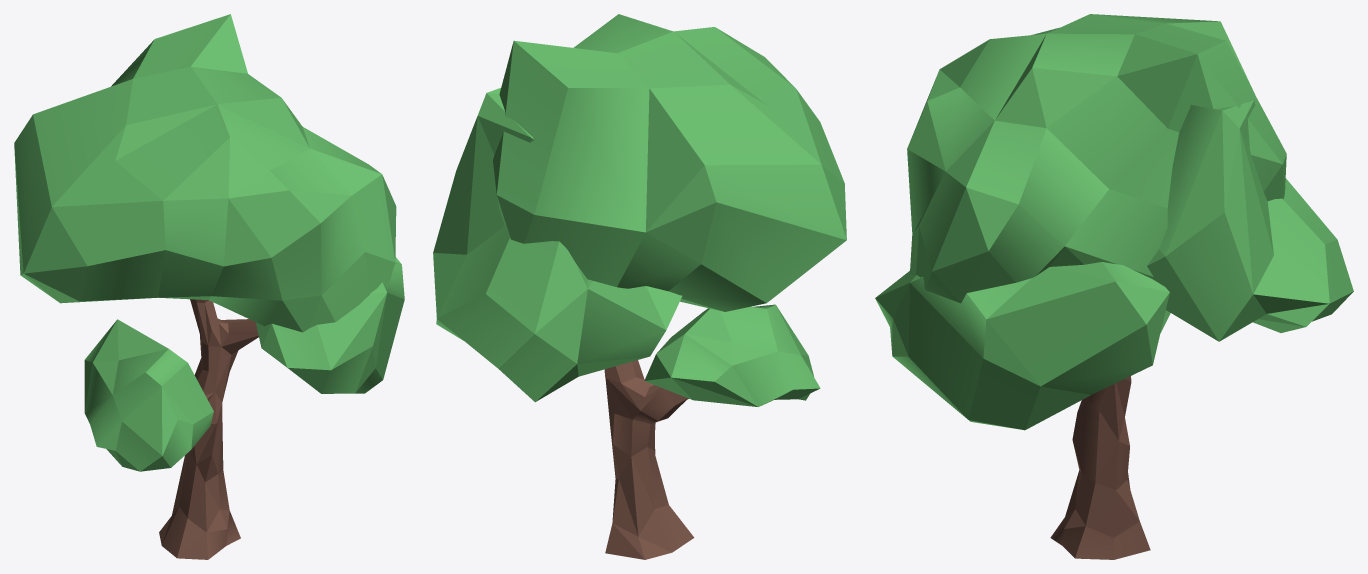
Rendered from tree_001.glb.
3 renders of one model, left to right at view 1: azimuth 30°, elevation 25°; view 2: azimuth 150°, elevation 25°; view 3: azimuth 270°, elevation 25°, orthographic. The views are drawn at different scales.
Parts seen in each view (by area): view 1: tree_001; view 2: tree_001; view 3: tree_001.
Part boxes in pixels (left/top/right/bottom): tree_001: left=14, top=14, right=404, bottom=559; tree_001: left=433, top=14, right=846, bottom=559; tree_001: left=875, top=14, right=1353, bottom=559.
Size of the model in its own units: 3.26 by 4.4 by 3.57.
Materials: 1 (1 with a texture image).
